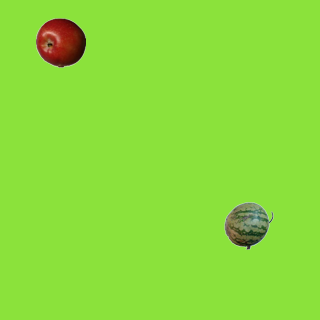Apple Braeburn: (35, 17, 85, 67)
Watermelon: (223, 200, 273, 250)
